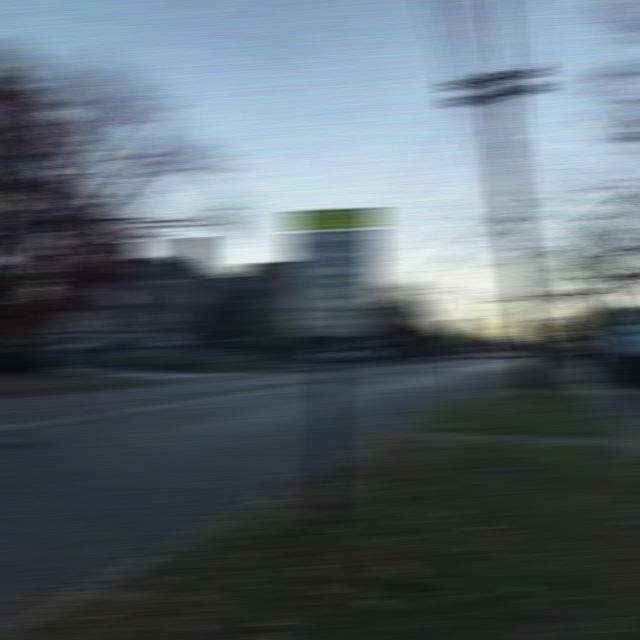speedLimit15: (284, 234, 382, 310)
